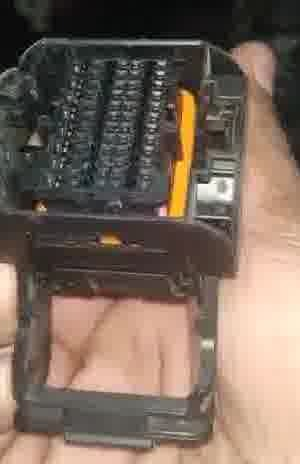connector: (1, 36, 246, 300)
